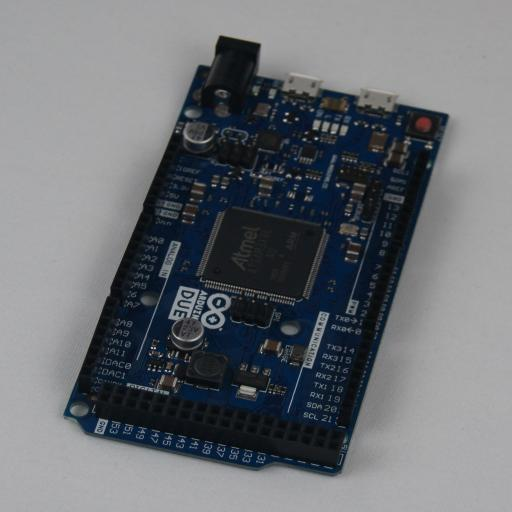Arduino Due: (64, 36, 448, 476)
